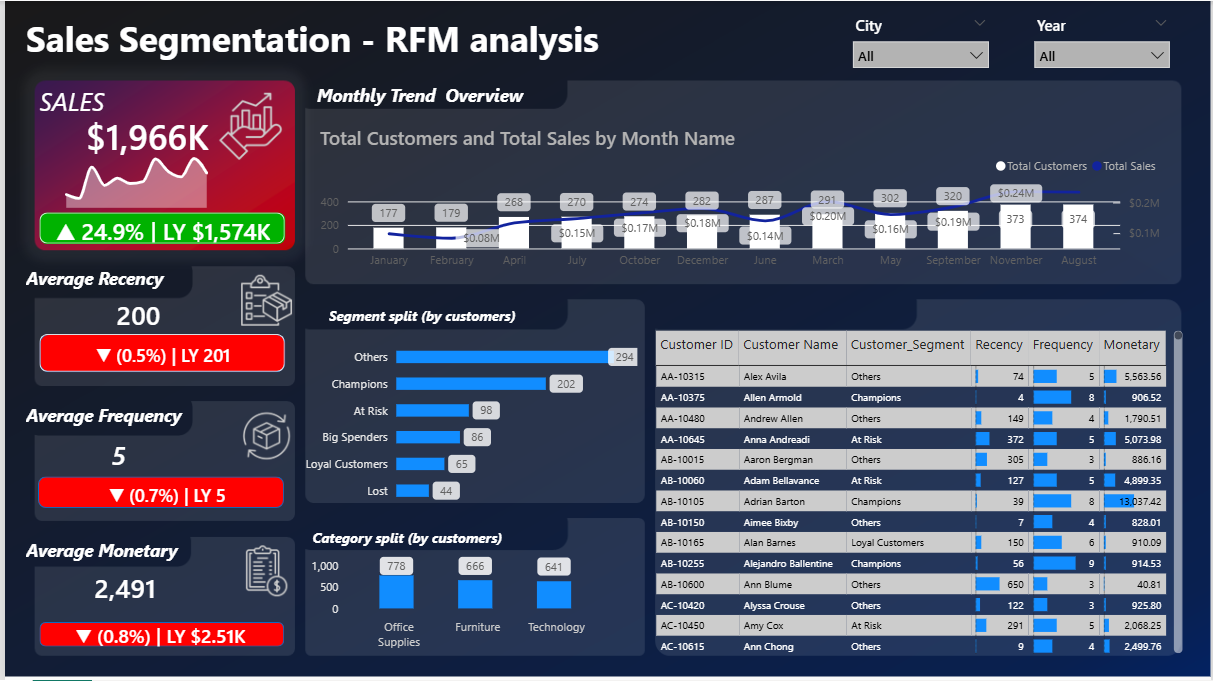

What the dashboard file says about the page in this screenshot:
{"tool":"powerbi","page":{"name":"Page 1","canvas":[1280,720],"ordinal":0},"visuals":[{"type":"shape","box":[36.2,353.6,260.9,40.6],"z":0},{"type":"textbox","box":[22.3,14.3,617.2,55.7],"z":1000},{"type":"cardVisual","fields":{"Data":["tbl measures.Total Sales"]},"box":[0,87,307.2,107.2],"z":2000},{"type":"textbox","box":[36.5,87.1,192.4,58.7],"z":3000},{"type":"cardVisual","fields":{"Data":["tbl measures.AvgRecency"]},"box":[36.2,305.8,210.1,53.6],"z":4000},{"type":"textbox","box":[21.7,281.2,173.9,42],"z":5000},{"type":"cardVisual","fields":{"Data":["tbl measures.AvgFrequency"]},"box":[46.4,453.6,149.3,52.2],"z":6000},{"type":"textbox","box":[21.7,426.1,173.9,53.6],"z":7000},{"type":"cardVisual","fields":{"Data":["tbl measures.AvgMonetary"]},"box":[21.7,598.6,210.1,46.4],"z":8000},{"type":"shape","box":[36.2,224.6,260.9,33.3],"z":9000},{"type":"textbox","box":[21.7,569.6,182.6,42],"z":10000},{"type":"cardVisual","fields":{"Data":["tbl measures.YoY SalesVariance"]},"box":[36.2,224.6,260.9,33.3],"z":11000},{"type":"shape","box":[36.2,658,259.4,26.1],"z":12000},{"type":"slicer","fields":{"Values":["DateTable.Year"]},"box":[1087,14.5,153.6,72.5],"z":13000},{"type":"shape","box":[34.8,504.3,260.9,33.3],"z":14000},{"type":"cardVisual","fields":{"Data":["tbl measures.YoY RecencyVar"]},"box":[36.2,353.6,260.9,40.6],"z":15000},{"type":"cardVisual","fields":{"Data":["tbl measures.YoY FrequencyVar"]},"box":[36.2,505.8,271,33.3],"z":16000},{"type":"cardVisual","fields":{"Data":["tbl measures.YoY MonetaryVar"]},"box":[34.8,658,260.9,26.1],"z":17000},{"type":"lineChart","fields":{"Category":["DateTable.Month Number"],"Y":["tbl measures.Total Sales"]},"box":[26.1,140.6,255.1,95.7],"z":18000},{"type":"lineStackedColumnComboChart","fields":{"Category":["DateTable.Month Name"],"Y":["tbl measures.Total Customers"],"Y2":["tbl measures.Total Sales"]},"box":[318.6,117.1,922.9,185.7],"z":19000},{"type":"textbox","box":[331.4,87.1,262.9,47.1],"z":19001},{"type":"clusteredBarChart","fields":{"Category":["RFM_calculation.Customer_Segment"],"Y":["CountNonNull(RFM_calculation.Customer ID)"]},"box":[308.3,351.7,365,186.7],"z":19002},{"type":"textbox","box":[343.3,323.3,230,21.7],"z":19003},{"type":"clusteredColumnChart","fields":{"Category":["Superstore 2025.Category"],"Y":["CountNonNull(RFM_calculation.Customer ID)"]},"box":[308.3,570,346.7,136.7],"z":19004},{"type":"textbox","box":[948.3,480,293.3,226.7],"z":19005},{"type":"textbox","box":[326.7,558.3,246.7,21.7],"z":19006},{"type":"tableEx","fields":{"Values":["RFM_calculation.Customer ID","RFM_calculation.Customer Name","RFM_calculation.Customer_Segment","RFM_calculation.Recency","RFM_calculation.Frequency","RFM_calculation.Monetary"]},"box":[673.3,335,591.7,371.7],"z":19007},{"type":"slicer","fields":{"Values":["Superstore 2025.City"]},"box":[894,14,154,72],"z":19008}]}

Visuals, with their boxes in screenshot pixels (x1, y1, x2, y2), scaled from the page's 1280x720 canvas onto the 1213x681 screenshot:
shape: locate(34, 334, 282, 373)
textbox: locate(21, 14, 606, 66)
cardVisual - tbl measures.Total Sales: locate(0, 82, 291, 184)
textbox: locate(35, 82, 217, 138)
cardVisual - tbl measures.AvgRecency: locate(34, 289, 233, 340)
textbox: locate(21, 266, 185, 306)
cardVisual - tbl measures.AvgFrequency: locate(44, 429, 185, 478)
textbox: locate(21, 403, 185, 454)
cardVisual - tbl measures.AvgMonetary: locate(21, 566, 220, 610)
shape: locate(34, 212, 282, 244)
textbox: locate(21, 539, 194, 578)
cardVisual - tbl measures.YoY SalesVariance: locate(34, 212, 282, 244)
shape: locate(34, 622, 280, 647)
slicer - DateTable.Year: locate(1030, 14, 1176, 82)
shape: locate(33, 477, 280, 508)
cardVisual - tbl measures.YoY RecencyVar: locate(34, 334, 282, 373)
cardVisual - tbl measures.YoY FrequencyVar: locate(34, 478, 291, 510)
cardVisual - tbl measures.YoY MonetaryVar: locate(33, 622, 280, 647)
lineChart - DateTable.Month Number x tbl measures.Total Sales: locate(25, 133, 266, 224)
lineStackedColumnComboChart - DateTable.Month Name x tbl measures.Total Customers: locate(302, 111, 1177, 286)
textbox: locate(314, 82, 563, 127)
clusteredBarChart - RFM_calculation.Customer_Segment x CountNonNull(RFM_calculation.Customer ID): locate(292, 333, 638, 509)
textbox: locate(325, 306, 543, 326)
clusteredColumnChart - Superstore 2025.Category x CountNonNull(RFM_calculation.Customer ID): locate(292, 539, 621, 668)
textbox: locate(899, 454, 1177, 668)
textbox: locate(310, 528, 543, 549)
tableEx - RFM_calculation.Customer ID x RFM_calculation.Customer Name: locate(638, 317, 1199, 668)
slicer - Superstore 2025.City: locate(847, 13, 993, 81)
